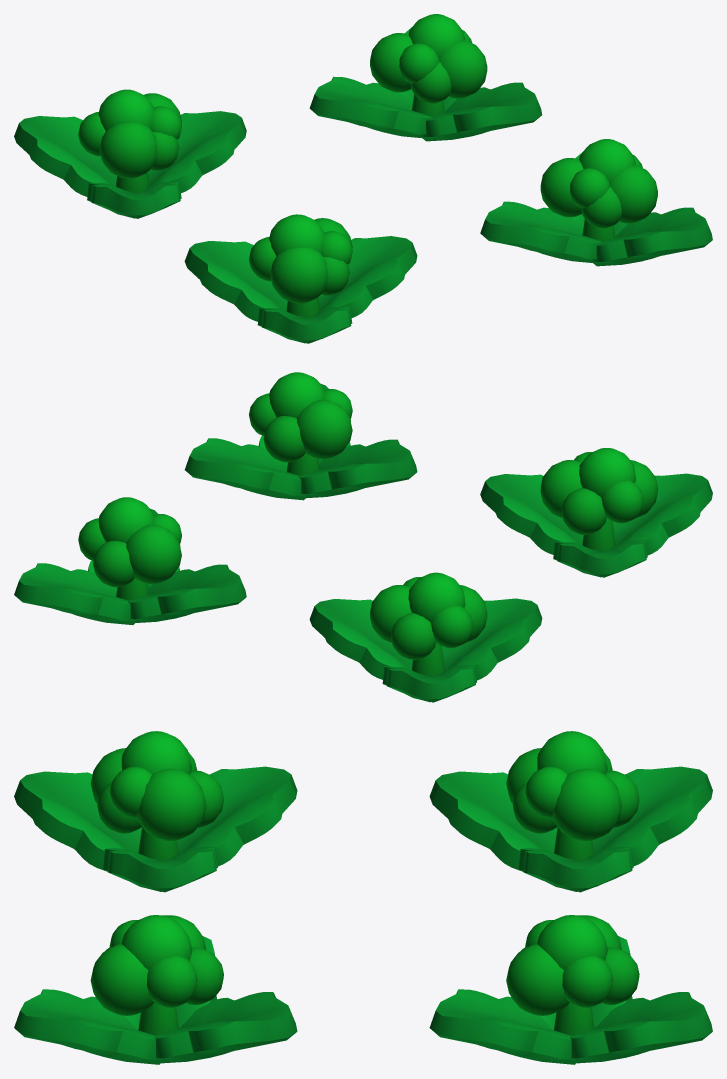
The model's file is Farm_Crop_Broccoli_Step_02.fbx.
3 views of the same model, one above another, from view 1: azimuth 30°, elevation 25°; view 2: azimuth 150°, elevation 25°; view 3: azimuth 270°, elevation 25° (orthographic). The views are drawn at different scales.
Visible parts, largest first — view 1: Farm_Crop_Broccoli_Step_02; view 2: Farm_Crop_Broccoli_Step_02; view 3: Farm_Crop_Broccoli_Step_02.
Boxes of the visible parts, <box> form: Farm_Crop_Broccoli_Step_02: <box>14,14,712,343</box>; Farm_Crop_Broccoli_Step_02: <box>14,372,712,702</box>; Farm_Crop_Broccoli_Step_02: <box>14,731,712,1064</box>.
Bounding box in the file's own units: 150 × 39.01 × 168.
